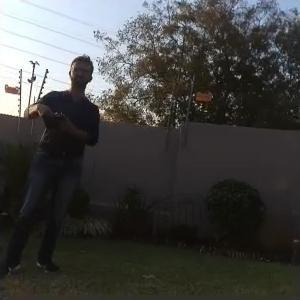follow: (0, 44, 103, 285)
